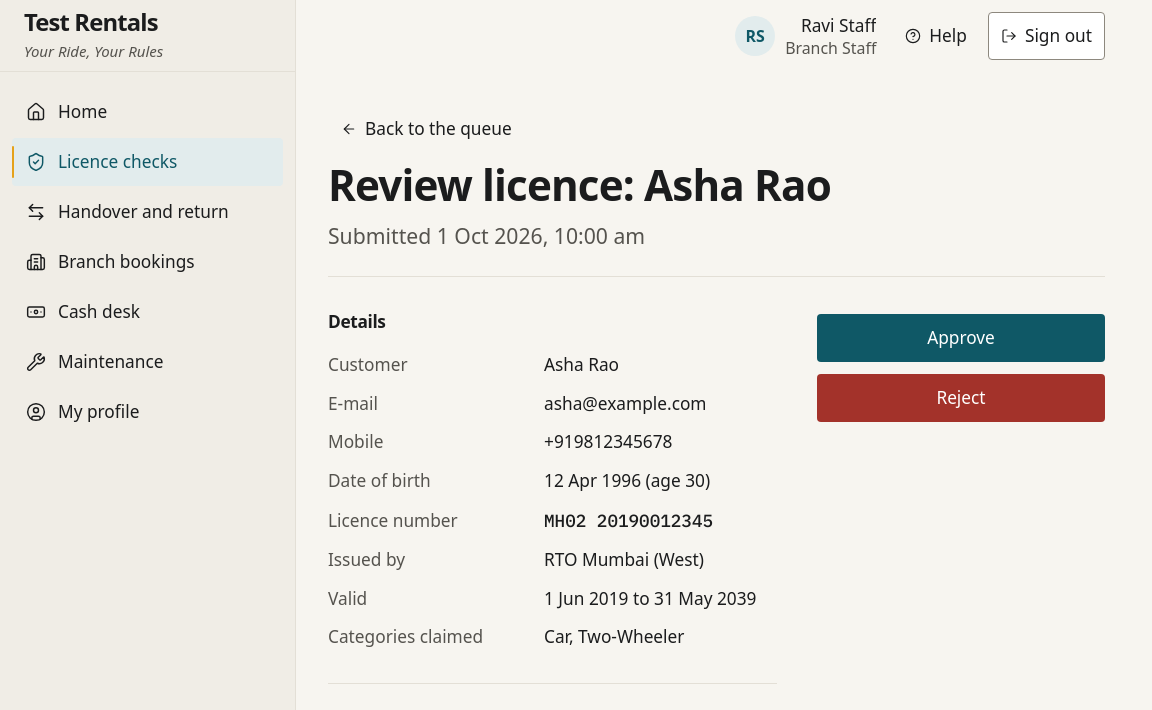
Test: licence verification (staff) › approves and returns to the queue
Click the button "Approve".
click(961, 338)  # box [817,314,1105,362]
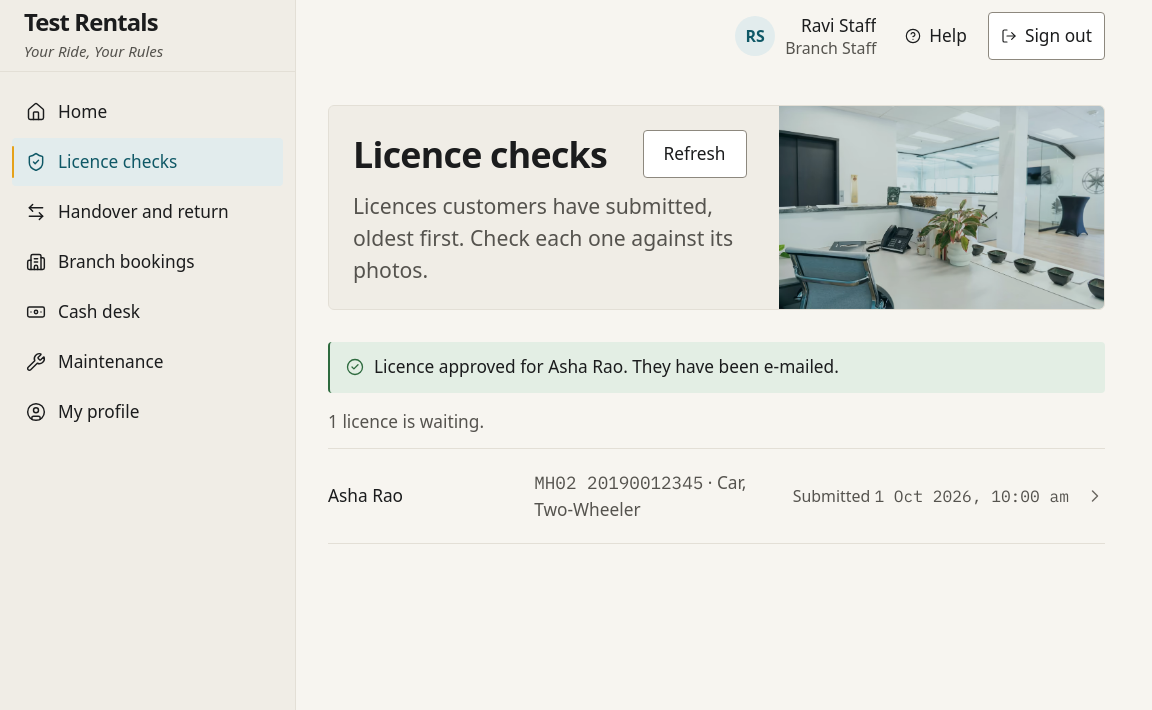
Expected: the text "Licence approved for Asha Rao. They have been e-mailed." is shown, [374,354,839,381]
